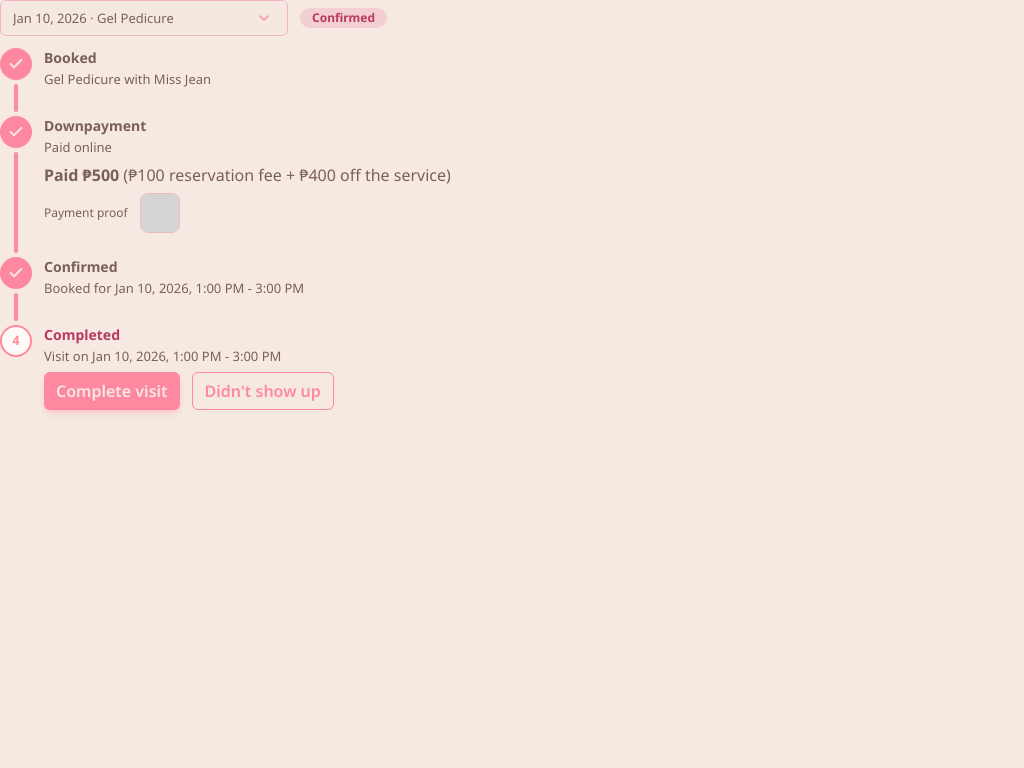
it: the client page's booking tracker › shows Complete visit and Didn't show up on the Completed step; Complete visit opens the form in a dialog
Expected: the button "Didn't show up" is shown, [192,372,334,410]
Click the button "Complete visit" at (112, 391), box [44,372,180,410]
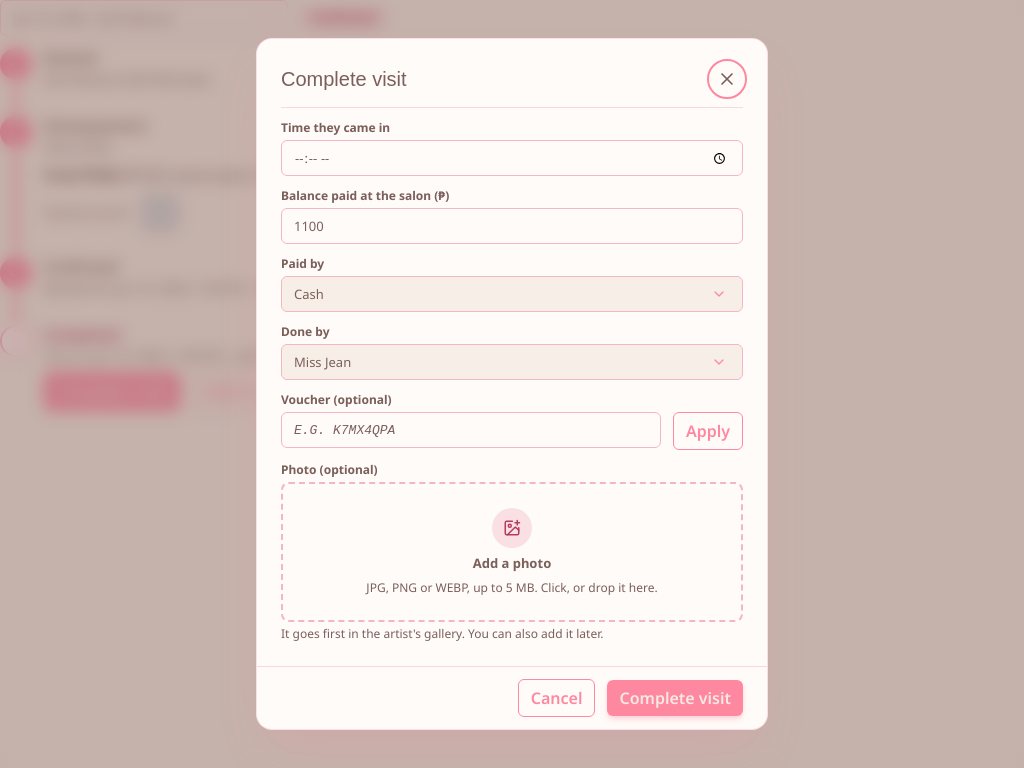
Now the field labelled "Balance paid at the salon (₱)" holds "1100", box [281,208,743,244]
Click the button "Cancel" at (557, 698), box [518,679,595,717]
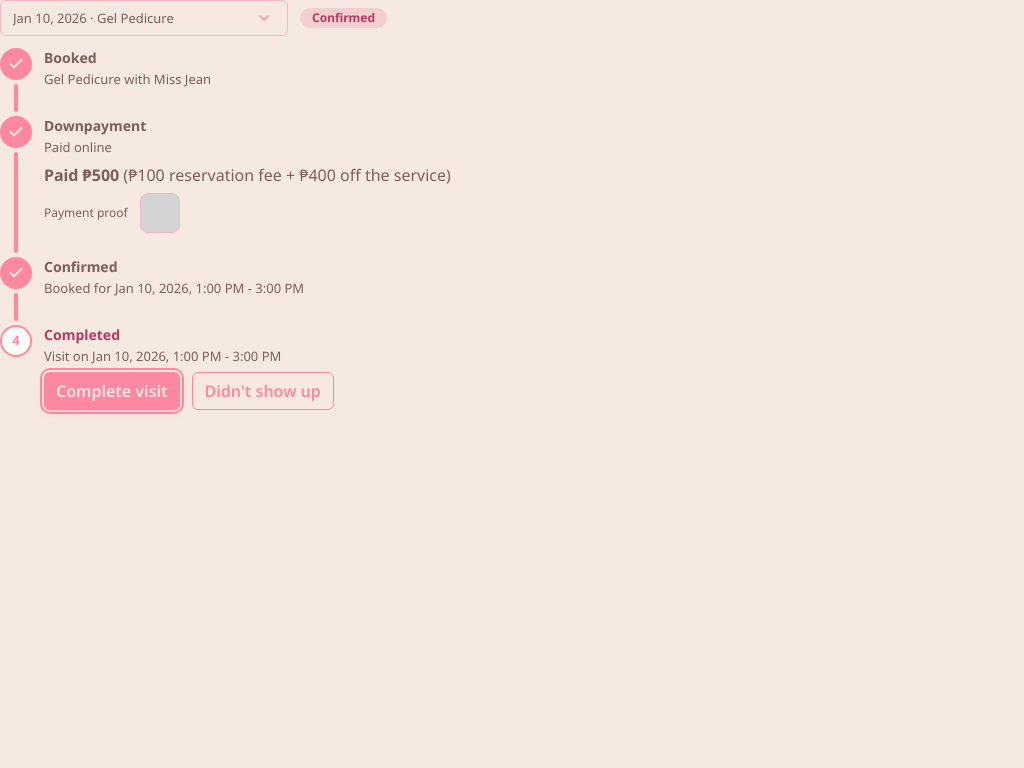
Now the dialog is gone
